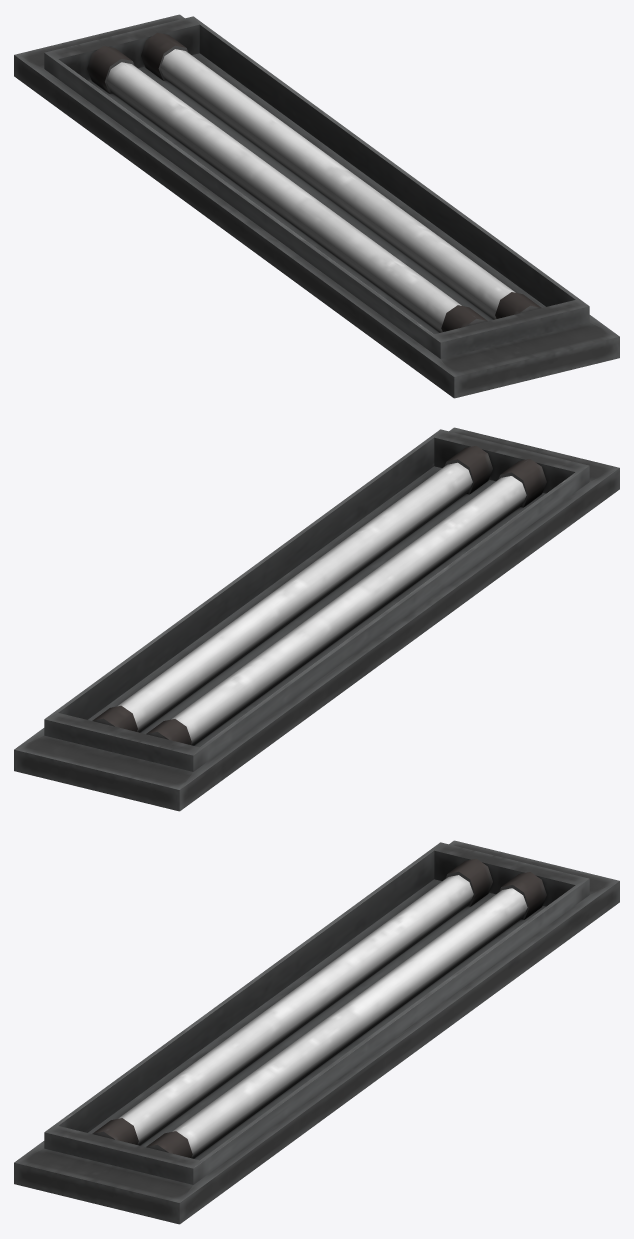
The model's file is Lamp_02.glb.
3 views of the same model, one above another, from view 1: azimuth 30°, elevation 25°; view 2: azimuth 150°, elevation 25°; view 3: azimuth 330°, elevation 25° (orthographic).
Visible parts, largest first — view 1: Lamp_02.001; view 2: Lamp_02.001; view 3: Lamp_02.001.
Boxes of the visible parts, x1=… form: Lamp_02.001: x1=14, y1=14, x2=619, y2=398; Lamp_02.001: x1=14, y1=427, x2=619, y2=811; Lamp_02.001: x1=14, y1=840, x2=619, y2=1224.
Size of the model in its own units: 0.308 by 0.0737 by 1.42.
1 material, 1 textured.
